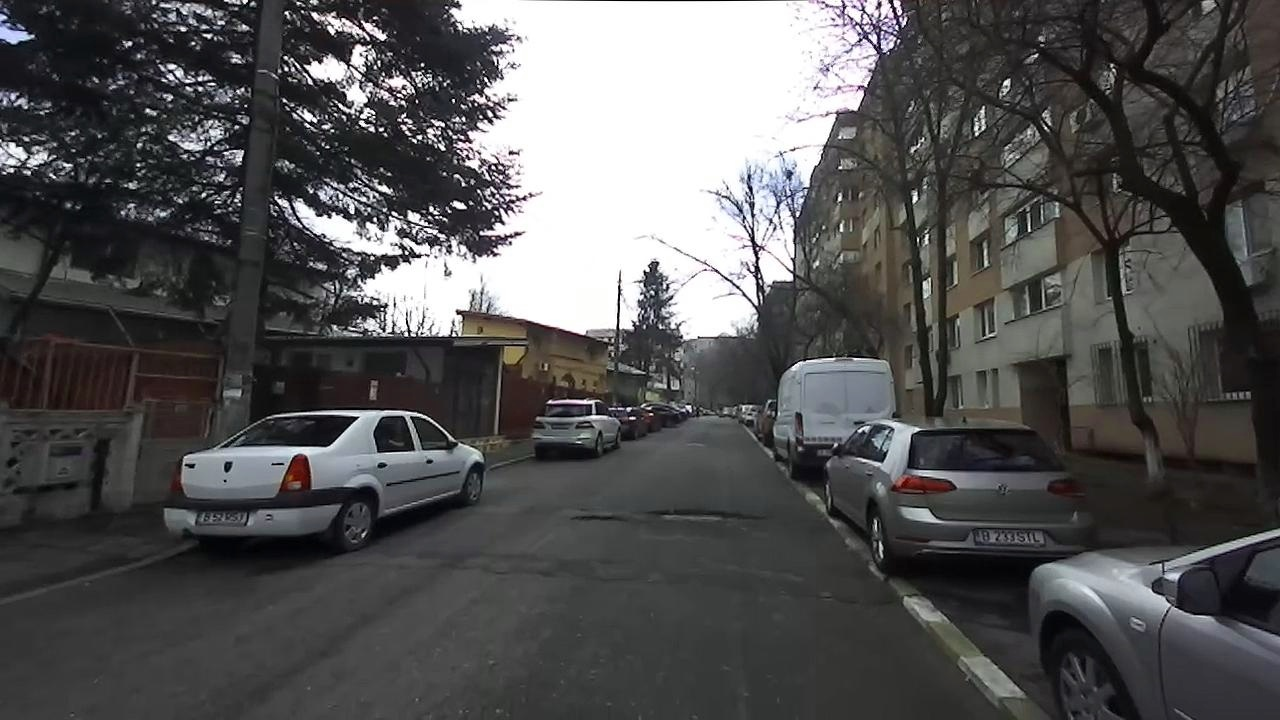pothole: (644, 505, 768, 524), (568, 512, 630, 524)
